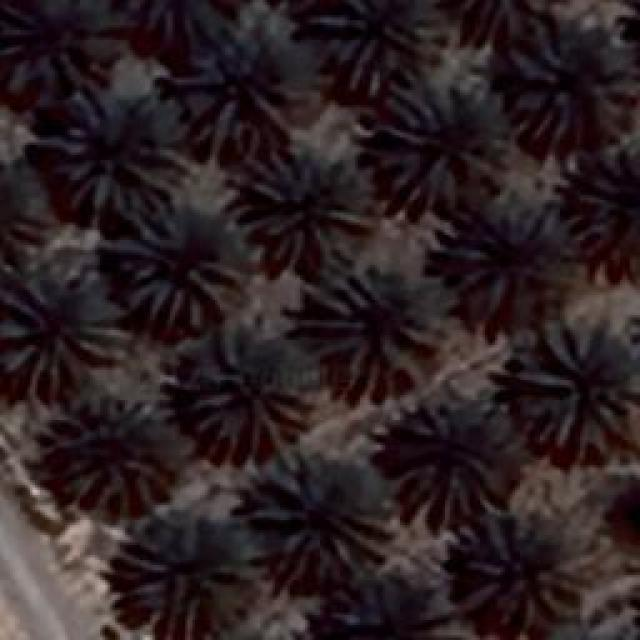PalmTree: (248, 444, 390, 578), (187, 320, 315, 462), (304, 260, 438, 392), (52, 92, 192, 218), (240, 140, 372, 272), (515, 318, 635, 458), (170, 2, 290, 140), (375, 82, 503, 210), (117, 202, 240, 330), (52, 392, 175, 520), (505, 18, 630, 140), (390, 395, 498, 530), (462, 514, 576, 628), (442, 219, 570, 319), (312, 0, 446, 95), (131, 526, 254, 624), (2, 288, 130, 382), (10, 0, 110, 92), (570, 150, 638, 272), (113, 0, 236, 66), (317, 590, 455, 640), (442, 0, 563, 52), (0, 165, 45, 278)
